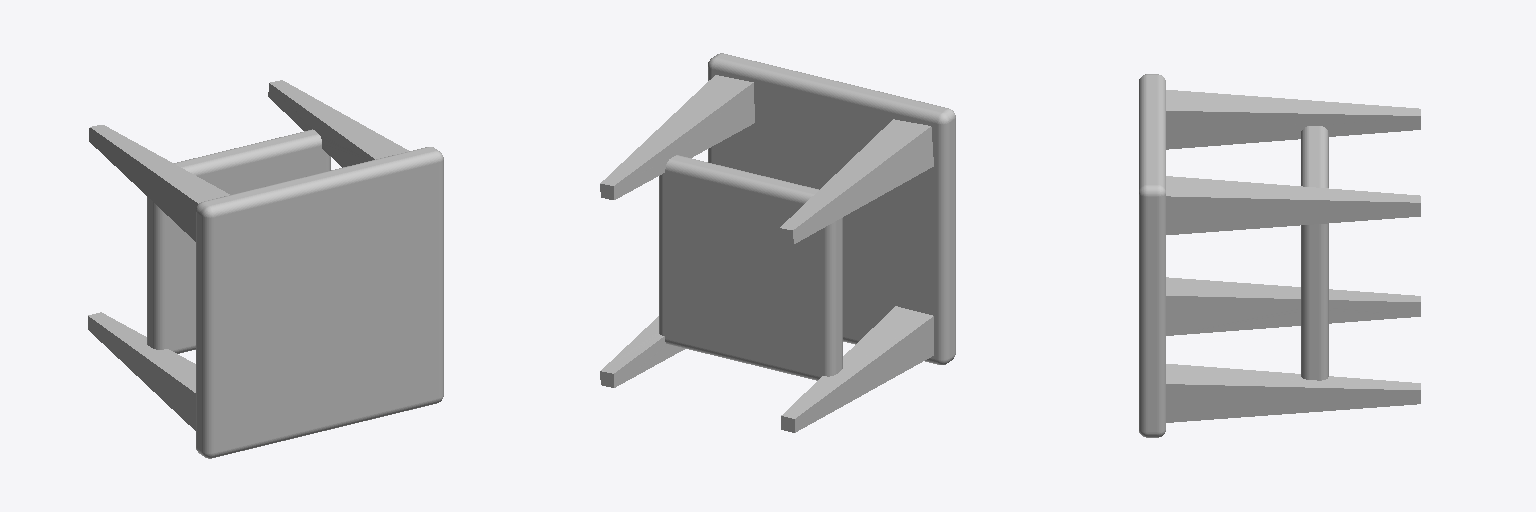
Rendered from tinker_2.obj.
The picture shows the model from 3 angles: view 1: azimuth 30°, elevation 25°; view 2: azimuth 150°, elevation 25°; view 3: azimuth 270°, elevation 25°; orthographic projection.
Parts seen in each view (by area): view 1: obj_0; view 2: obj_0; view 3: obj_0.
Part boxes in pixels (bbox=[...]): obj_0: bbox=[88, 80, 443, 458]; obj_0: bbox=[600, 53, 955, 432]; obj_0: bbox=[1139, 74, 1420, 437].
Size of the model in its own units: 12 by 12 by 12.21.